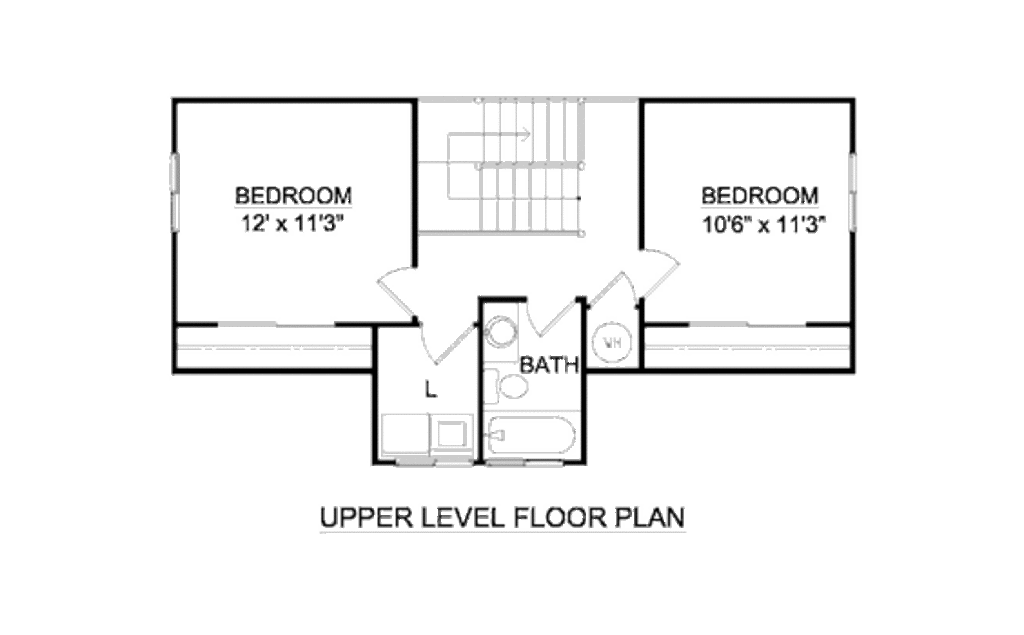door: (371, 267, 428, 314), (584, 268, 641, 315), (524, 293, 577, 340), (419, 322, 471, 368), (642, 247, 680, 299)
large_sink: (476, 361, 538, 407)
small_sink: (479, 298, 522, 362)
stairs: (419, 96, 597, 243)
tub: (481, 410, 583, 458)
window: (169, 156, 182, 230), (847, 153, 859, 233), (395, 456, 481, 467)
